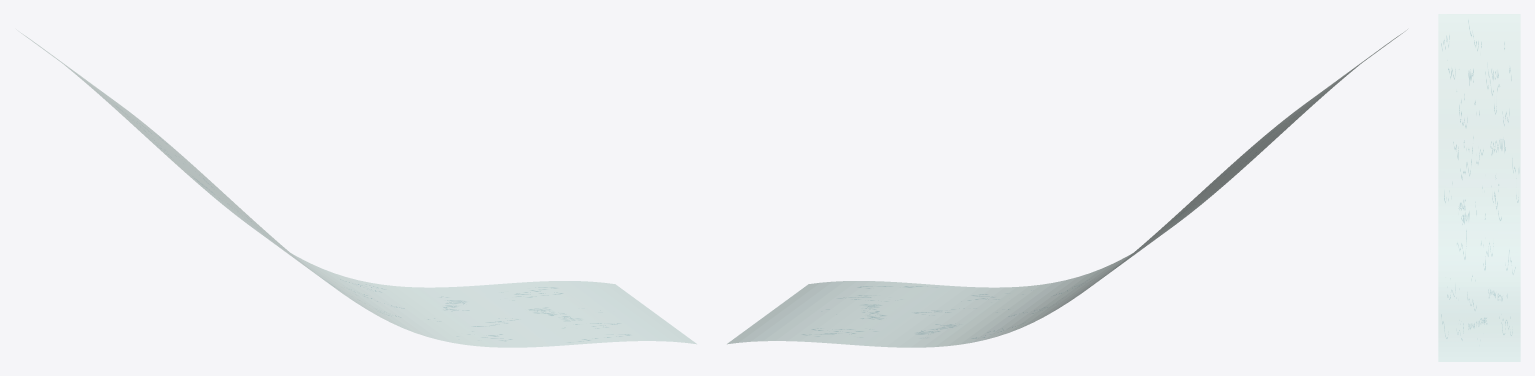
Rendered from mountain sort of.fbx.
3 views of the same model, side by side, from view 1: azimuth 30°, elevation 25°; view 2: azimuth 150°, elevation 25°; view 3: azimuth 270°, elevation 25° (orthographic). The views are drawn at different scales.
Visible parts, largest first — view 1: Plane; view 2: Plane; view 3: Plane.
Part boxes in pixels (x1,y1,x2,y2): Plane: (16,29,696,347); Plane: (727,29,1407,347); Plane: (1438,14,1520,361).
Size of the model in its own units: 16883 by 10805 by 4000.
